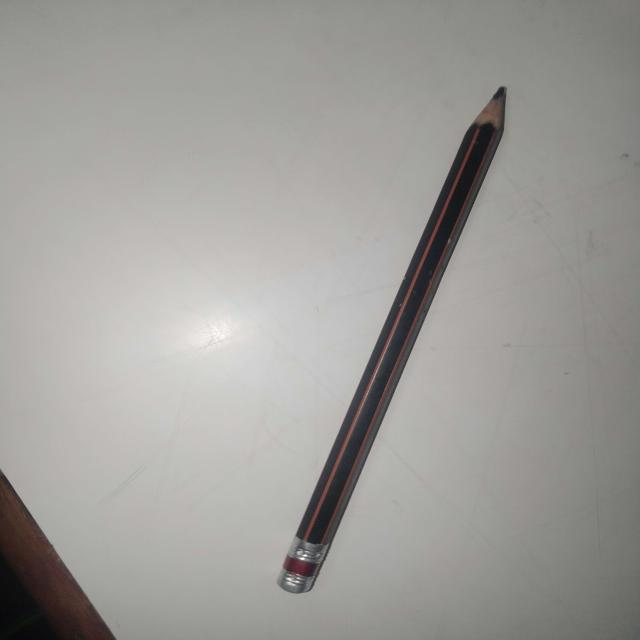pen_pencil: (230, 79, 540, 625)
